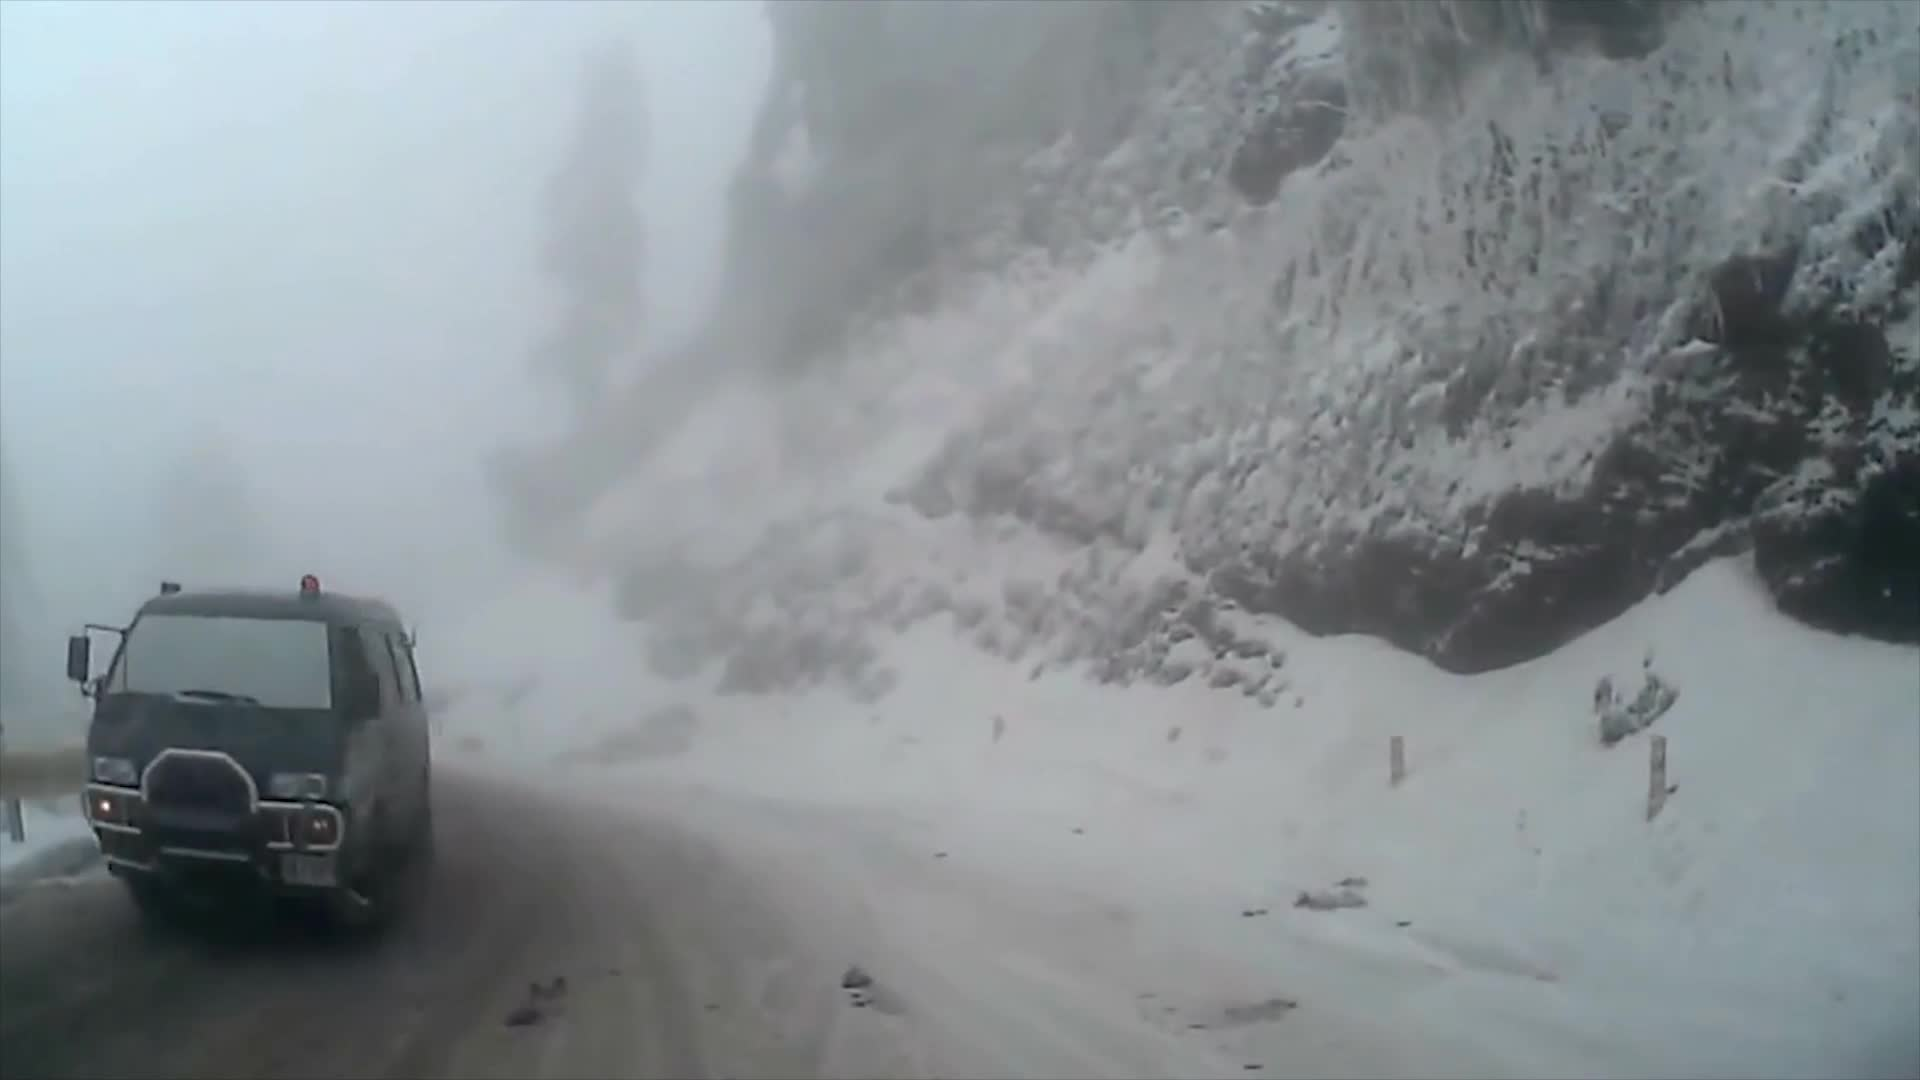vehicle: (65, 576, 435, 940)
